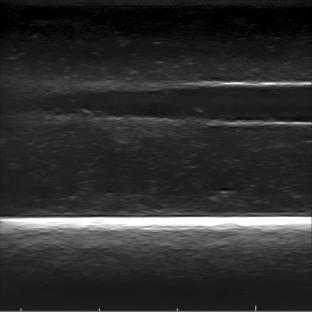vessel: (88, 79, 311, 129)
